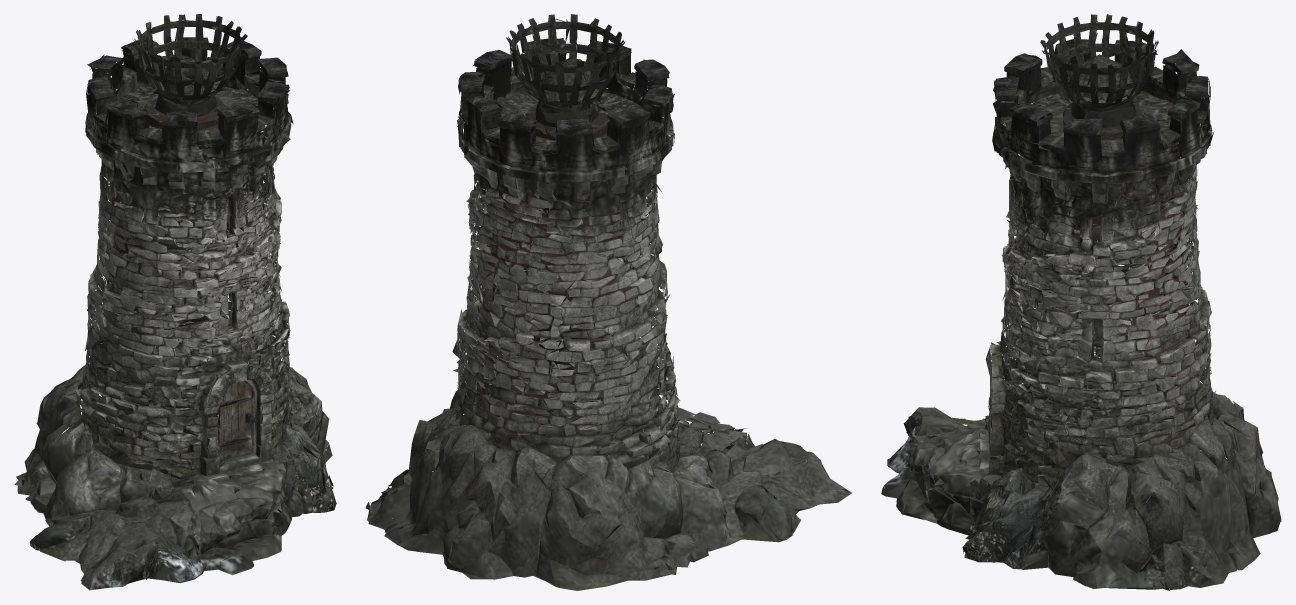
File: beacon.glb
The picture shows the model from 3 angles, left to right: view 1: azimuth 30°, elevation 25°; view 2: azimuth 150°, elevation 25°; view 3: azimuth 270°, elevation 25°; orthographic projection. The views are drawn at different scales.
Parts seen in each view (by area): view 1: Mesh_0; view 2: Mesh_0; view 3: Mesh_0.
Boxes of the visible parts, x1,y1,x2,y2 form: Mesh_0: [14, 14, 336, 590]; Mesh_0: [365, 14, 852, 590]; Mesh_0: [881, 14, 1281, 590].
Size of the model in its own units: 11.51 by 15 by 11.35.
Materials: 1 (1 with a texture image).
